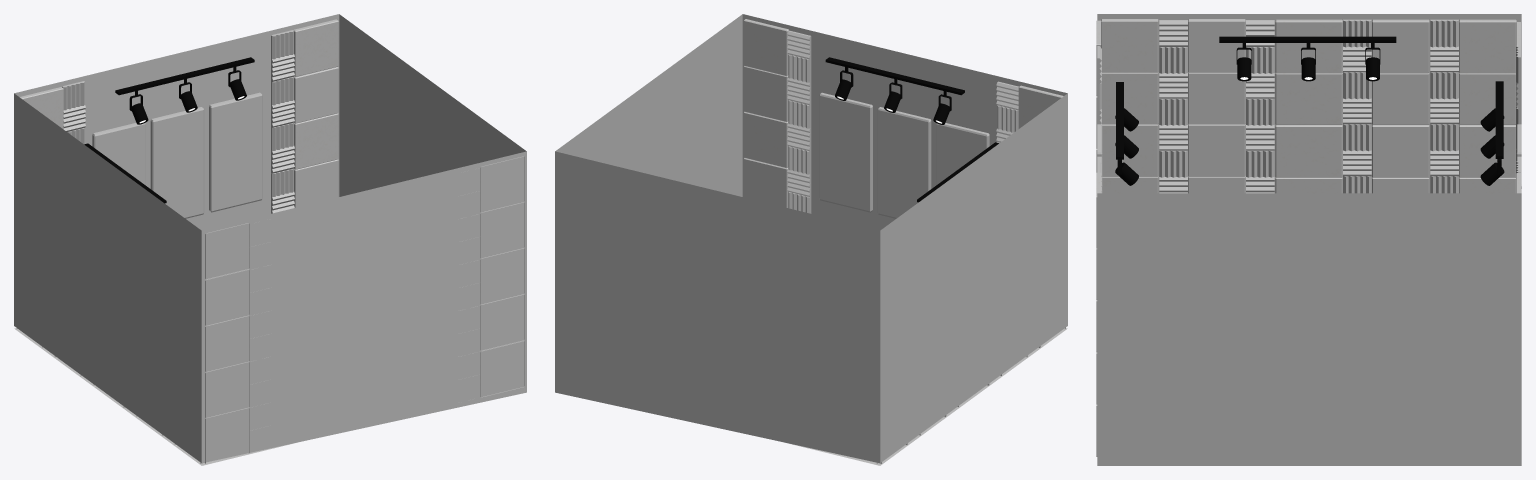
File: 0215 drum room.fbx
3 renders of one model, left to right at view 1: azimuth 30°, elevation 25°; view 2: azimuth 150°, elevation 25°; view 3: azimuth 270°, elevation 25°, orthographic. The views are drawn at different scales.
Visible parts, largest first — view 1: wall, L, L02, R_Soundproof_2, R_Soundproof_1, left light pole, L01, R01, R02, floor; view 2: wall, R, R02, L_Soundproof_2, rught light pole, L_Soundproof_1, R01, floor; view 3: wall, b03, b04, b02, b05, b01, B_Soundproof_4, B_Soundproof_1, B_Soundproof_3, B_Soundproof_2, back light pole, left light pole (+2 smaller).
Part boxes in pixels (x1,y1,x2,y2): wall: [14, 14, 526, 463]; L: [92, 92, 262, 218]; L02: [293, 19, 338, 207]; R_Soundproof_2: [271, 30, 294, 213]; R_Soundproof_1: [62, 81, 85, 144]; left light pole: [115, 57, 254, 111]; L01: [19, 87, 63, 129]; R01: [205, 223, 249, 463]; R02: [480, 156, 524, 397]; floor: [14, 328, 293, 465]; wall: [555, 14, 1067, 463]; R: [819, 92, 989, 218]; R02: [743, 19, 788, 207]; L_Soundproof_2: [787, 30, 811, 213]; rught light pole: [825, 57, 964, 111]; L_Soundproof_1: [996, 81, 1018, 143]; R01: [1018, 85, 1063, 128]; floor: [788, 328, 1067, 465]; wall: [1097, 14, 1521, 465]; b03: [1275, 19, 1342, 193]; b04: [1372, 19, 1429, 193]; b02: [1188, 19, 1245, 193]; b05: [1459, 19, 1516, 193]; b01: [1101, 19, 1158, 193]; B_Soundproof_4: [1430, 19, 1458, 193]; B_Soundproof_1: [1159, 20, 1187, 193]; B_Soundproof_3: [1343, 19, 1371, 193]; B_Soundproof_2: [1246, 20, 1274, 193]; back light pole: [1219, 36, 1396, 64]; left light pole: [1495, 81, 1503, 174].
Bounding box in the file's own units: 5 × 3.55 × 5.01.
